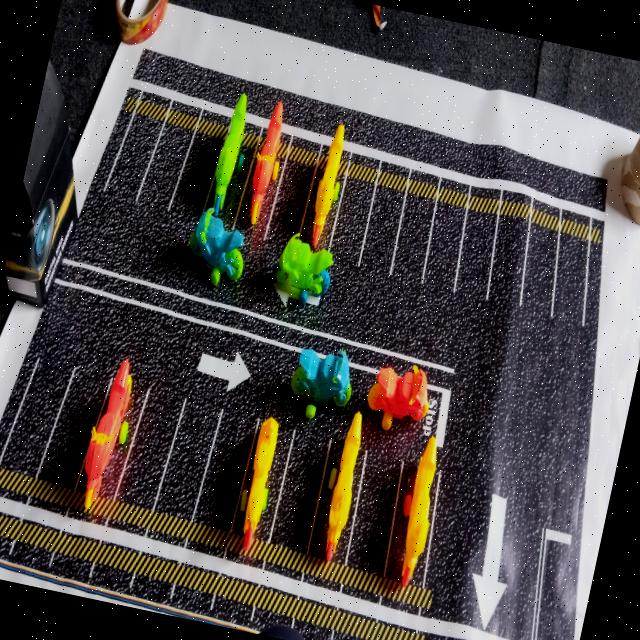bikes: (291, 348, 351, 419), (189, 207, 243, 285), (275, 233, 332, 304), (367, 365, 428, 429)
occupied: (74, 358, 149, 509), (306, 411, 367, 564), (230, 417, 295, 555), (383, 436, 440, 587), (234, 101, 292, 249), (202, 93, 259, 229), (298, 124, 349, 251)
others: (0, 61, 77, 307), (114, 0, 167, 44), (621, 135, 640, 225), (371, 4, 382, 29)
slots: (38, 367, 114, 489), (194, 399, 258, 528), (2, 362, 73, 476), (117, 387, 184, 507), (156, 401, 222, 517), (271, 431, 330, 551), (347, 451, 400, 576), (391, 171, 438, 278), (107, 115, 161, 203), (265, 160, 313, 256), (139, 123, 192, 209), (329, 176, 373, 277), (172, 137, 221, 216), (454, 208, 495, 299), (361, 186, 403, 272), (488, 216, 526, 311), (551, 234, 586, 332), (424, 203, 463, 290), (520, 223, 559, 307)
